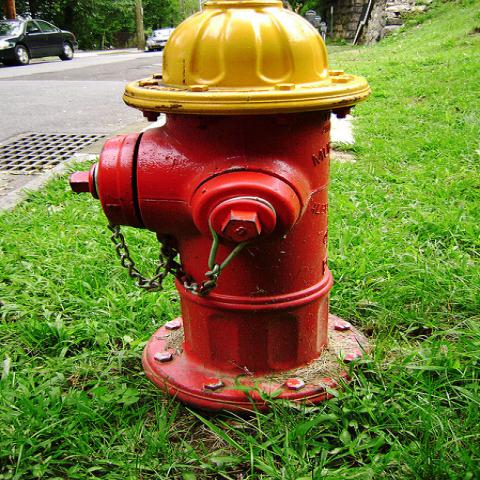car: (2, 19, 77, 66), (145, 28, 176, 53)
